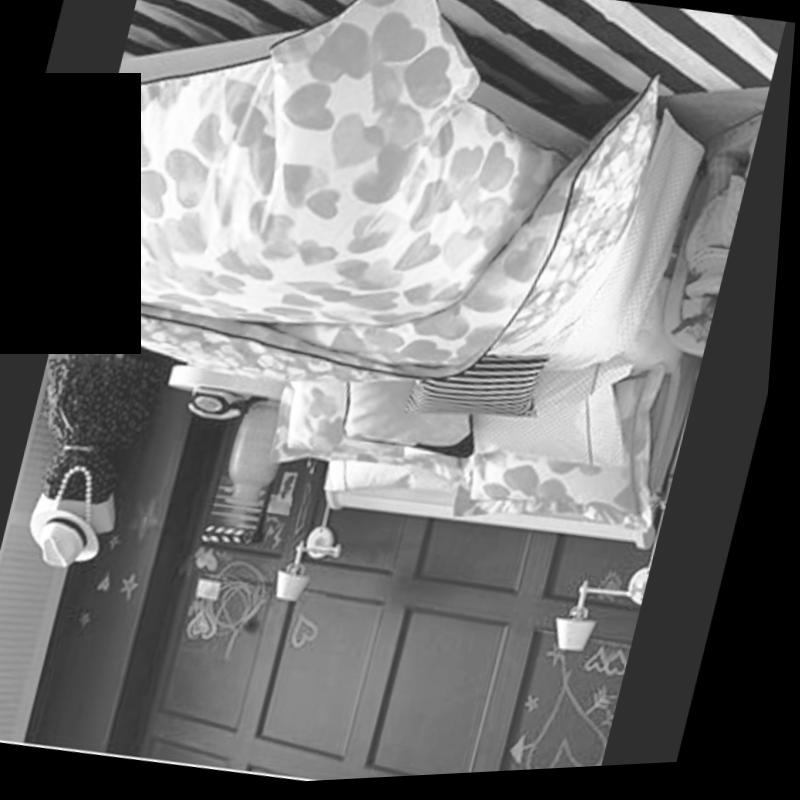pillow: (453, 343, 693, 562), (467, 337, 659, 481), (336, 357, 504, 474), (390, 338, 557, 448), (327, 458, 454, 513)
